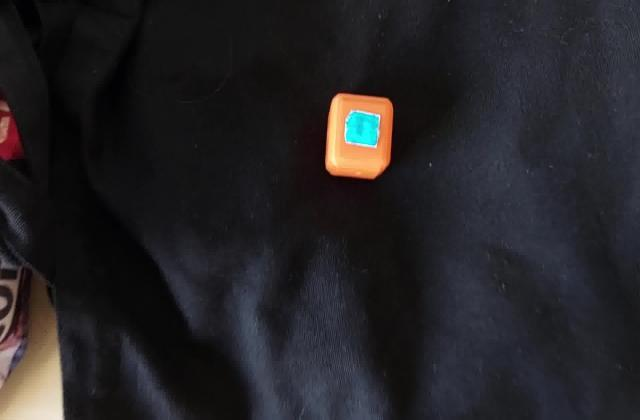blue: (352, 115, 375, 141)
sticker: (323, 92, 396, 180)
